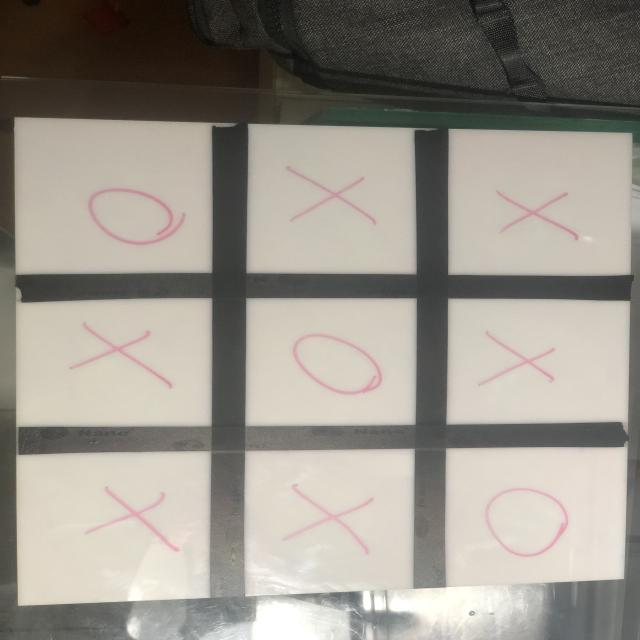o: (481, 484, 571, 560), (292, 330, 384, 397), (88, 184, 179, 250)
table: (8, 117, 634, 615)
x: (78, 484, 180, 555), (287, 485, 382, 555), (284, 164, 380, 233), (70, 322, 171, 387), (492, 182, 579, 243), (481, 329, 555, 390)
